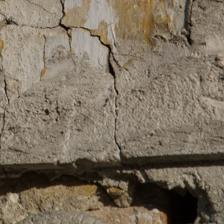Crack: (76, 0, 146, 60), (48, 65, 80, 146), (38, 146, 83, 170)
